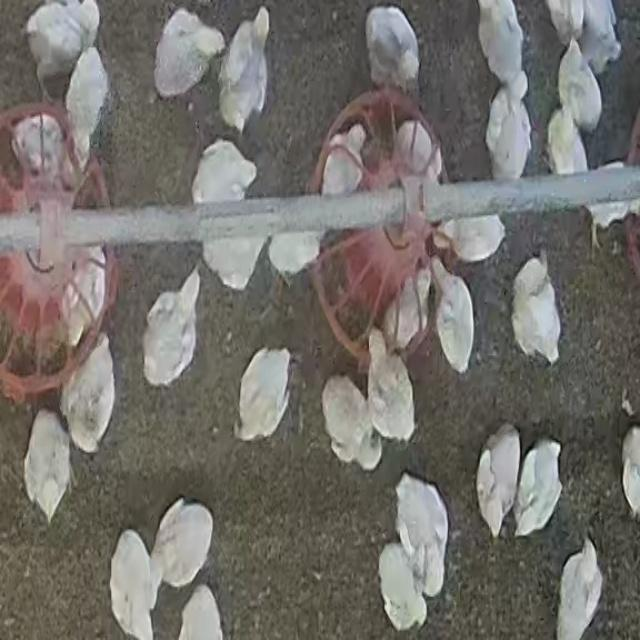chicken: (24, 2, 99, 103), (217, 8, 271, 137), (394, 472, 450, 596), (153, 7, 226, 101), (146, 266, 203, 385), (61, 334, 118, 452), (321, 373, 384, 468), (232, 346, 294, 442), (64, 46, 111, 172), (150, 498, 214, 590), (23, 408, 72, 523), (368, 330, 417, 444), (109, 531, 160, 639), (512, 254, 561, 366), (200, 214, 271, 290), (476, 426, 523, 536), (472, 1, 526, 95), (433, 258, 476, 376), (365, 4, 421, 94), (60, 247, 109, 349), (193, 137, 255, 217), (512, 439, 563, 536), (485, 81, 534, 181), (555, 536, 604, 636), (556, 37, 604, 137), (380, 261, 430, 354), (582, 160, 638, 241), (377, 543, 427, 632), (268, 215, 328, 283), (436, 208, 507, 265), (319, 124, 370, 200), (11, 114, 60, 182), (546, 106, 590, 180), (392, 120, 440, 187), (619, 426, 640, 526)
